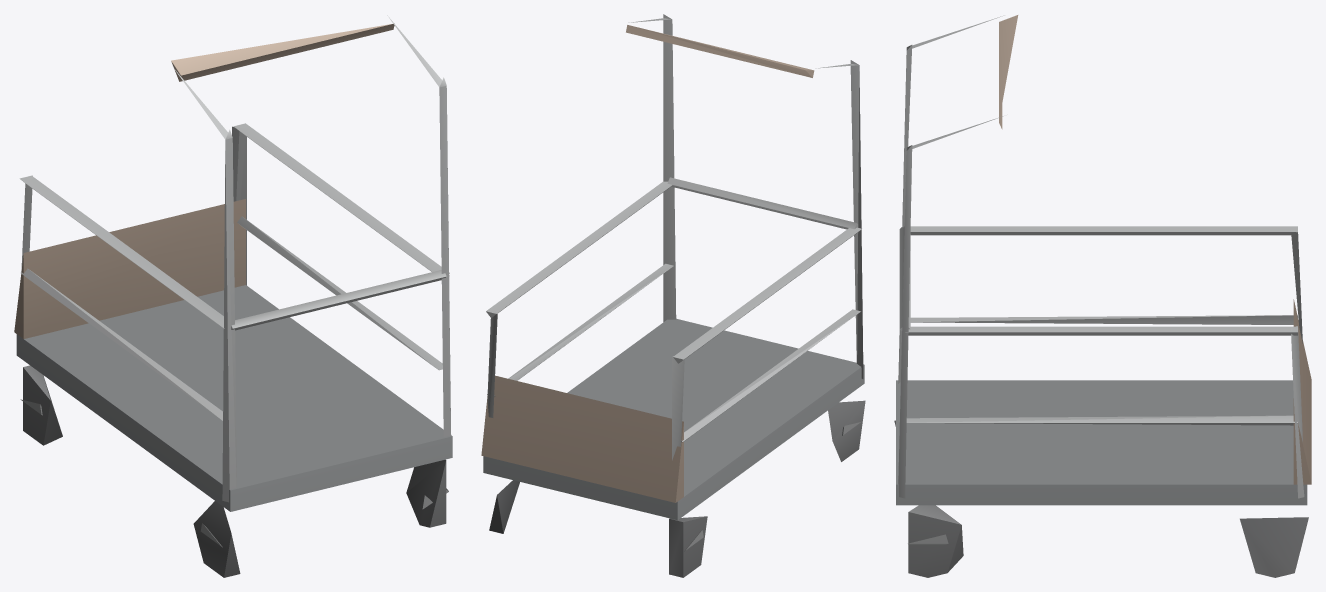
File: trolley.lod2.glb
3 views of the same model, side by side, from view 1: azimuth 30°, elevation 25°; view 2: azimuth 150°, elevation 25°; view 3: azimuth 270°, elevation 25° (orthographic). The views are drawn at different scales.
Bounding box in the file's own units: 0.556 × 1.11 × 0.914.
